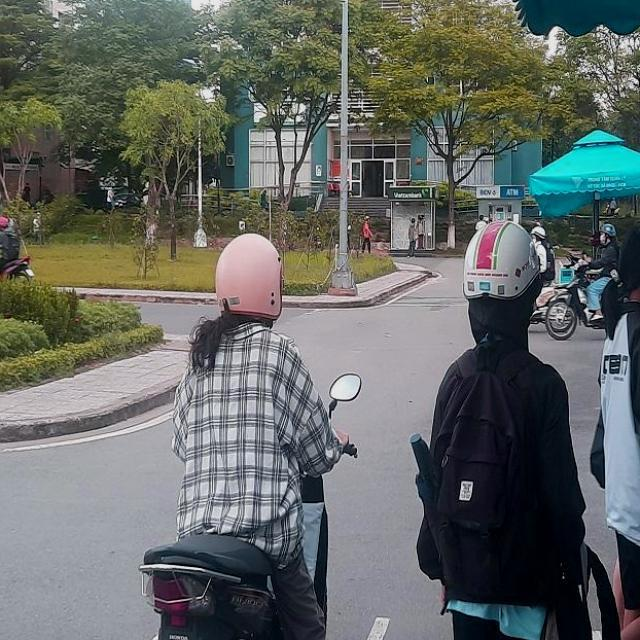Helmet: (463, 219, 542, 330), (212, 225, 290, 333)
